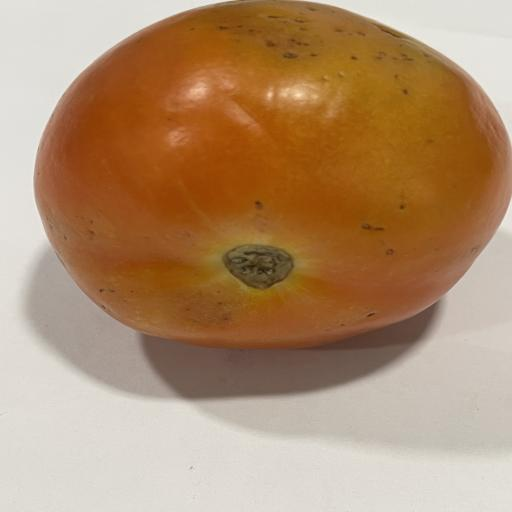unripe: (35, 0, 512, 349)
